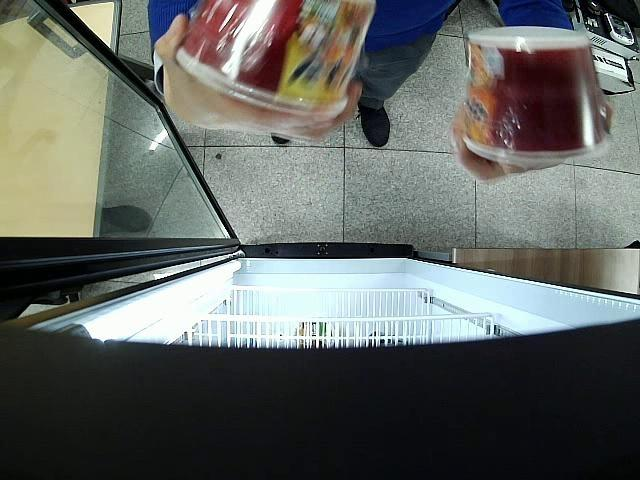05_nuguri_L: (176, 0, 375, 117), (466, 27, 612, 161)
